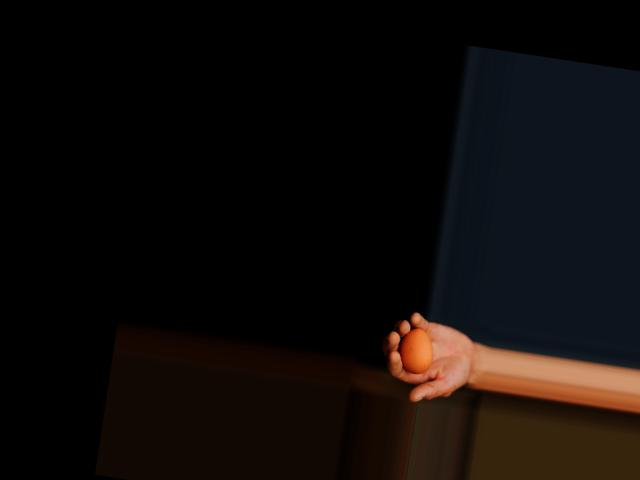egg: (397, 325, 436, 375)
